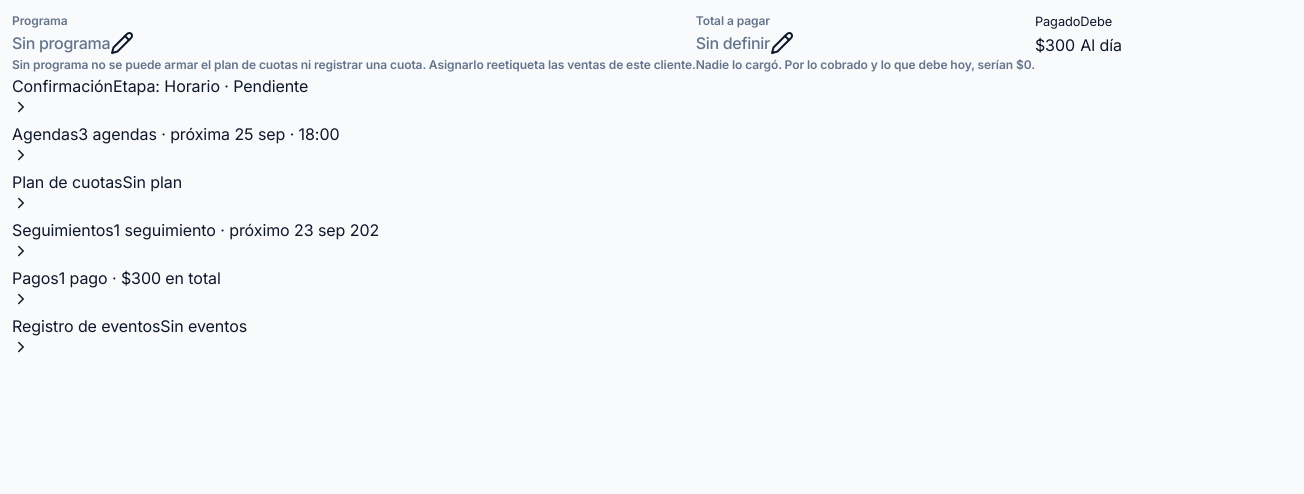
Scenario: los pagos del historial › la fila dice el día, el tipo, el programa, el medio y el monto
The width and height of the screenshot is (1304, 494).
Click the button "Pagos1 pago · $300 en total".
click(116, 287)  # box [12,266,221,308]
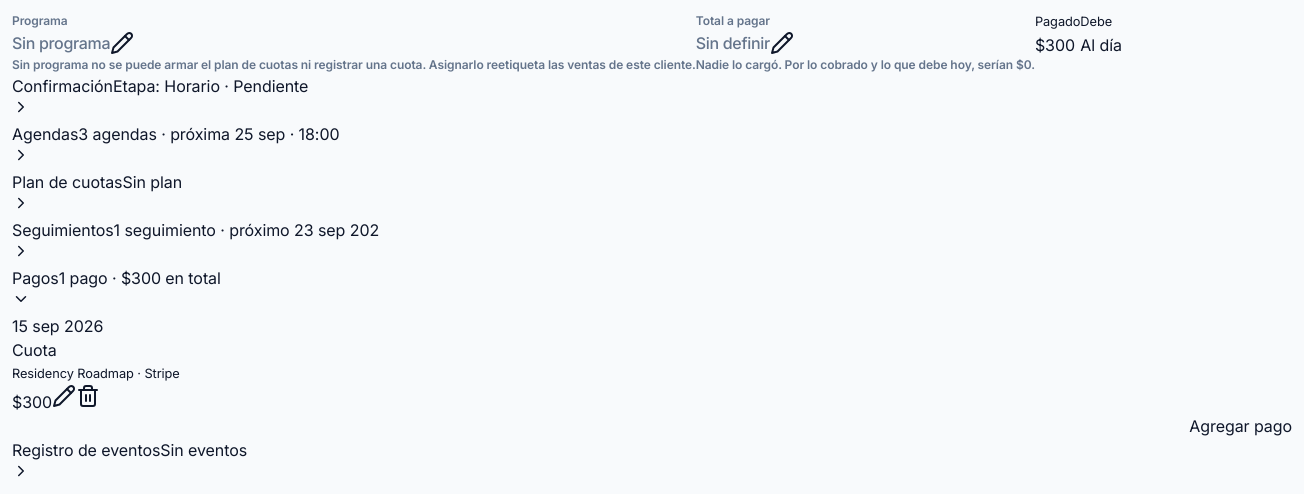
Result: the text "15 sep 2026" is shown at [12,316,103,336]
Result: the text "Cuota" is shown at [12,340,57,360]
Result: the text "$300" below "Residency Roadmap · Stripe" is shown at [12,392,52,412]
